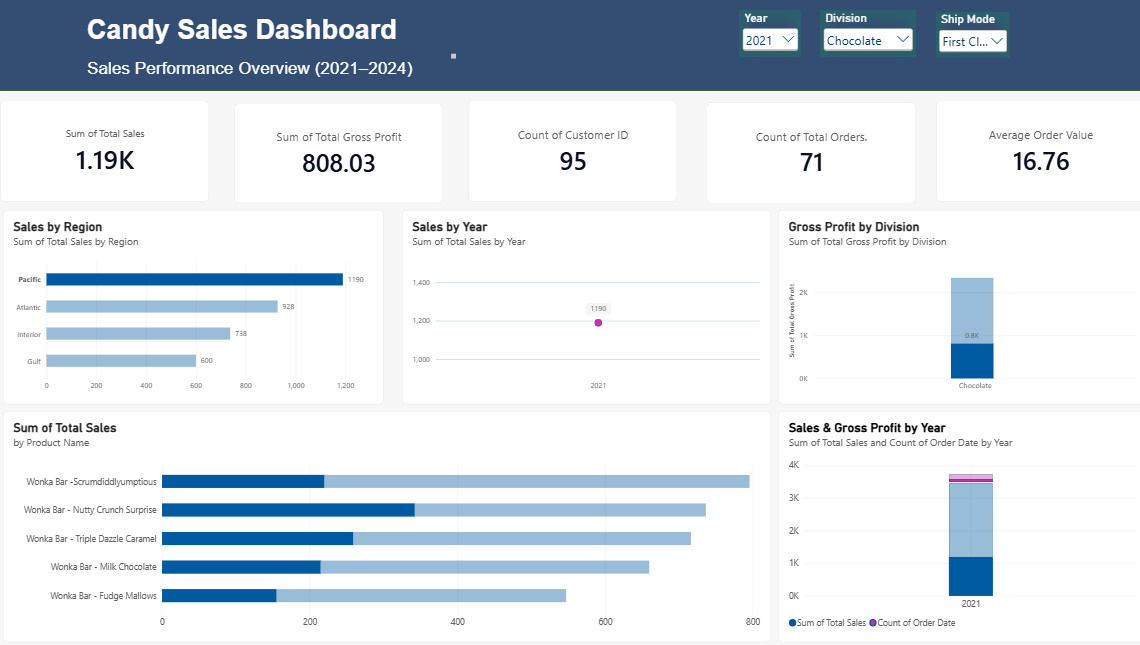

Layout of this report page (visuals, bound fields, positions):
{"tool":"powerbi","page":{"name":"Page 1","canvas":[1920,1080],"ordinal":0},"visuals":[{"type":"shape","box":[0,0,1920,157.5],"z":0},{"type":"textbox","title":"Candy Sales Dashboard","box":[171.2,30.8,600,73.1],"z":1000},{"type":"textbox","title":"Sales Performance Overview (2021–2024)","box":[171.2,103.8,600,73.1],"z":2000},{"type":"cardVisual","fields":{"Data":["Sum(candy_project candy_sales.Sales)"]},"box":[28.6,174.3,340,165.7],"z":3000},{"type":"cardVisual","fields":{"Data":["Sum(candy_project candy_sales.Total Gross Profit)"]},"box":[408.6,177.1,340,162.9],"z":4000},{"type":"cardVisual","fields":{"Data":["CountNonNull(candy_project candy_sales.Customer ID)"]},"box":[791.4,174.3,340,165.7],"z":5000},{"type":"cardVisual","fields":{"Data":["Count(candy_project candy_sales.Order ID)"]},"box":[1179.1,176.1,340,165.7],"z":6000},{"type":"cardVisual","fields":{"Data":["candy_project candy_sales.Average Order Value"]},"box":[1551.4,174.3,340,165.7],"z":7000},{"type":"lineChart","title":"Sales by Year","fields":{"Category":["candy_project candy_sales.Year"],"Y":["Sum(candy_project candy_sales.Total Sales)"]},"box":[683.3,350,600,316.2],"z":8000},{"type":"clusteredColumnChart","title":"Gross Profit by Division","fields":{"Category":["candy_project candy_sales.Division"],"Y":["Sum(candy_project candy_sales.Gross Profit)"]},"box":[1293.9,350,600,316.1],"z":9000},{"type":"clusteredBarChart","title":"Sales by Region","fields":{"Category":["candy_project candy_sales.Region"],"Y":["Sum(candy_project candy_sales.Total Sales)"]},"box":[34.8,350,618.9,316.2],"z":10000},{"type":"clusteredBarChart","fields":{"Category":["candy_project candy_sales.Product Name"],"Y":["Sum(candy_project candy_sales.Total Sales)"]},"box":[34.8,678.8,1248.5,375.8],"z":11000},{"type":"columnChart","title":"Sales & Gross Profit by Year","fields":{"Category":["candy_project candy_sales.Year"],"Y":["Sum(candy_project candy_sales.Total Sales)","CountNonNull(candy_project candy_sales.Order Date)"]},"box":[1293.9,678.8,600,375.8],"z":12000},{"type":"slicer","fields":{"Values":["candy_project candy_sales.Year"]},"box":[1231.9,27.5,100,75.3],"z":13000},{"type":"slicer","fields":{"Values":["candy_project candy_sales.Division"]},"box":[1362.3,27.5,155.1,75.3],"z":14000},{"type":"slicer","fields":{"Values":["candy_project candy_sales.Ship Mode"]},"box":[1550.7,29,120.2,75.3],"z":15000}]}

Visuals, with their boxes in screenshot pixels (x1, y1, x2, y2), scaled from the page's 1920x1080 canvas onto the 1140x645 screenshot:
shape: box=[0, 0, 1139, 94]
"Candy Sales Dashboard" textbox: box=[102, 18, 458, 62]
"Sales Performance Overview (2021–2024)" textbox: box=[102, 62, 458, 106]
cardVisual - Sum(candy_project candy_sales.Sales): box=[17, 104, 219, 203]
cardVisual - Sum(candy_project candy_sales.Total Gross Profit): box=[243, 106, 444, 203]
cardVisual - CountNonNull(candy_project candy_sales.Customer ID): box=[470, 104, 672, 203]
cardVisual - Count(candy_project candy_sales.Order ID): box=[700, 105, 902, 204]
cardVisual - candy_project candy_sales.Average Order Value: box=[921, 104, 1123, 203]
"Sales by Year" lineChart: box=[406, 209, 762, 398]
"Gross Profit by Division" clusteredColumnChart: box=[768, 209, 1125, 398]
"Sales by Region" clusteredBarChart: box=[21, 209, 388, 398]
clusteredBarChart - candy_project candy_sales.Product Name x Sum(candy_project candy_sales.Total Sales): box=[21, 405, 762, 630]
"Sales & Gross Profit by Year" columnChart: box=[768, 405, 1125, 630]
slicer - candy_project candy_sales.Year: box=[731, 16, 791, 61]
slicer - candy_project candy_sales.Division: box=[809, 16, 901, 61]
slicer - candy_project candy_sales.Ship Mode: box=[921, 17, 992, 62]
